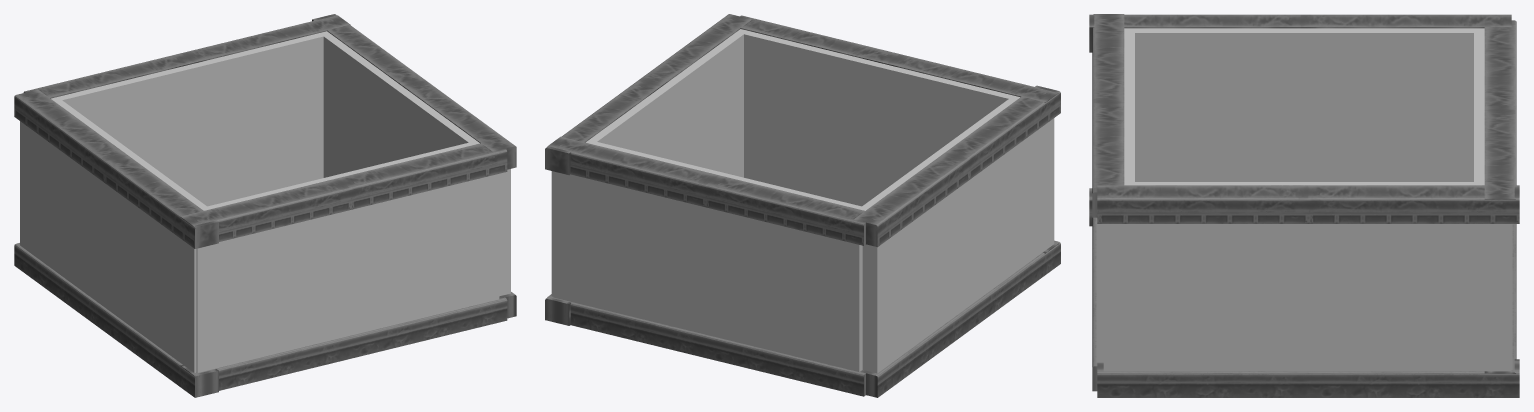
File: Building_Wall_08.fbx
The picture shows the model from 3 angles, left to right: view 1: azimuth 30°, elevation 25°; view 2: azimuth 150°, elevation 25°; view 3: azimuth 270°, elevation 25°; orthographic projection. The views are drawn at different scales.
Parts seen in each view (by area): view 1: BuildingWall3.010; view 2: BuildingWall3.010; view 3: BuildingWall3.010.
Part boxes in pixels (x1,y1,x2,y2): BuildingWall3.010: (14, 14, 516, 397); BuildingWall3.010: (545, 14, 1060, 397); BuildingWall3.010: (1089, 14, 1519, 397).
Bounding box in the file's own units: 2726 × 1365 × 2675.
